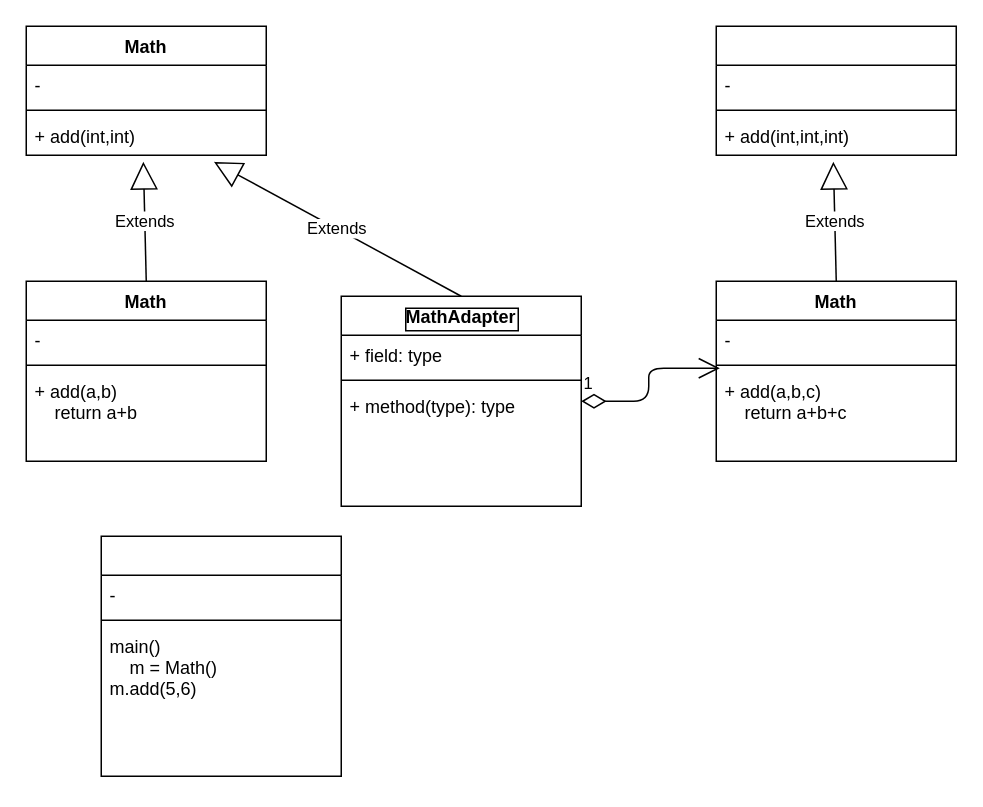
The diagram is 983 pixels wide and 807 high, and some of its shapes have lost their labels. The shapes that lost their labels are listed below. From the top down, each one's box as (x1, y1, x2, y2) in pixels, then its label:
(715, 25, 956, 155): Math2
(100, 535, 341, 776): Client
